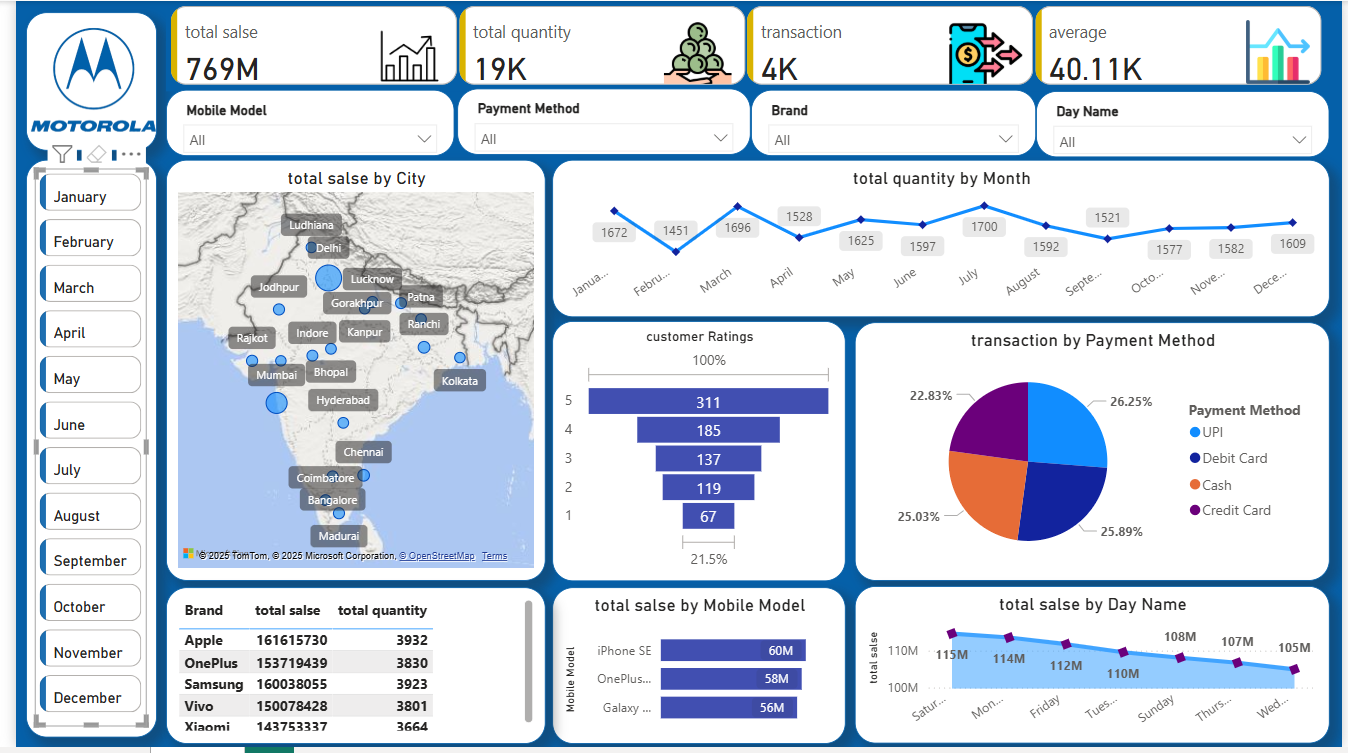

Layout of this report page (visuals, bound fields, positions):
{"tool":"powerbi","page":{"name":"Page 1","canvas":[1280,720],"ordinal":0},"visuals":[{"type":"shape","box":[9.7,10.9,126.7,133.9],"z":0},{"type":"image","box":[0,10.9,149.6,130.3],"z":1000},{"type":"shape","box":[9.7,153.2,126.7,557.4],"z":2000},{"type":"advancedSlicerVisual","fields":{"Values":["salse data.date.Variation.Date Hierarchy.Month"]},"box":[18.1,161.7,108.6,538.1],"z":3000},{"type":"cardVisual","fields":{"Data":["salse data.total salse","salse data.total quantity","salse data.transaction","salse data.average"]},"box":[144.8,0,1123.2,86.9],"z":4000},{"type":"map","fields":{"Category":["salse data.City"],"Size":["salse data.total salse"]},"box":[144.8,153.2,366.8,406.6],"z":5000},{"type":"lineChart","fields":{"Y":["salse data.total quantity"],"Category":["salse data.date.Variation.Date Hierarchy.Month","salse data.date.Variation.Date Hierarchy.Day"]},"box":[517.6,153.2,750.4,152],"z":6000},{"type":"clusteredBarChart","fields":{"Category":["salse data.Mobile Model"],"Y":["salse data.total salse"]},"box":[517.6,565.8,283.5,150.8],"z":7000},{"type":"pieChart","fields":{"Category":["salse data.Payment Method"],"Y":["salse data.transaction"]},"box":[809.5,310.1,458.4,249.7],"z":8000},{"type":"funnel","title":"customer Ratings","fields":{"Category":["salse data.Customer Ratings"],"Y":["CountNonNull(salse data.Customer Ratings)"]},"box":[517.6,308.8,283.5,250.9],"z":9000},{"type":"areaChart","fields":{"Category":["salse data.Day Name"],"Y":["salse data.total salse"]},"box":[809.5,564.6,458.4,152],"z":10000},{"type":"tableEx","fields":{"Values":["salse data.Brand","salse data.total salse","salse data.total quantity"]},"box":[144.8,565.8,366.8,150.8],"z":10001},{"type":"slicer","fields":{"Values":["salse data.Mobile Model"]},"box":[144.8,85.7,278.7,63.9],"z":10002},{"type":"slicer","fields":{"Values":["salse data.Payment Method"]},"box":[425.9,84.5,283.5,63.9],"z":10003},{"type":"slicer","fields":{"Values":["salse data.Brand"]},"box":[709.4,85.7,275.1,63.9],"z":10004},{"type":"slicer","fields":{"Values":["salse data.Day Name"]},"box":[984.5,86.9,283.5,63.9],"z":10005}]}

Visuals, with their boxes in screenshot pixels (x1, y1, x2, y2), scaled from the page's 1280x720 canvas onto the 1348x753 screenshot:
shape: box(10, 11, 144, 151)
image: box(0, 11, 158, 148)
shape: box(10, 160, 144, 743)
advancedSlicerVisual - salse data.date.Variation.Date Hierarchy.Month: box(19, 169, 133, 732)
cardVisual - salse data.total salse x salse data.total quantity: box(152, 0, 1335, 91)
map - salse data.City x salse data.total salse: box(152, 160, 539, 585)
lineChart - salse data.total quantity x salse data.date.Variation.Date Hierarchy.Month: box(545, 160, 1335, 319)
clusteredBarChart - salse data.Mobile Model x salse data.total salse: box(545, 592, 844, 749)
pieChart - salse data.Payment Method x salse data.transaction: box(853, 324, 1335, 585)
"customer Ratings" funnel: box(545, 323, 844, 585)
areaChart - salse data.Day Name x salse data.total salse: box(853, 590, 1335, 749)
tableEx - salse data.Brand x salse data.total salse: box(152, 592, 539, 749)
slicer - salse data.Mobile Model: box(152, 90, 446, 156)
slicer - salse data.Payment Method: box(449, 88, 747, 155)
slicer - salse data.Brand: box(747, 90, 1037, 156)
slicer - salse data.Day Name: box(1037, 91, 1335, 158)
